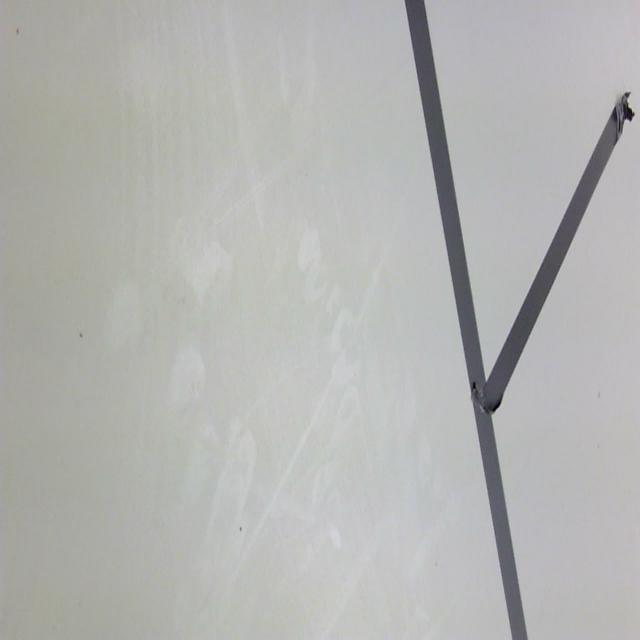tape: (392, 0, 640, 640)
